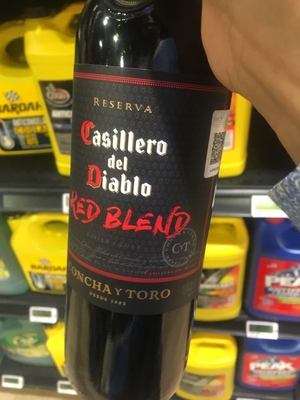casillero del diablo red blend: (66, 25, 232, 400)
